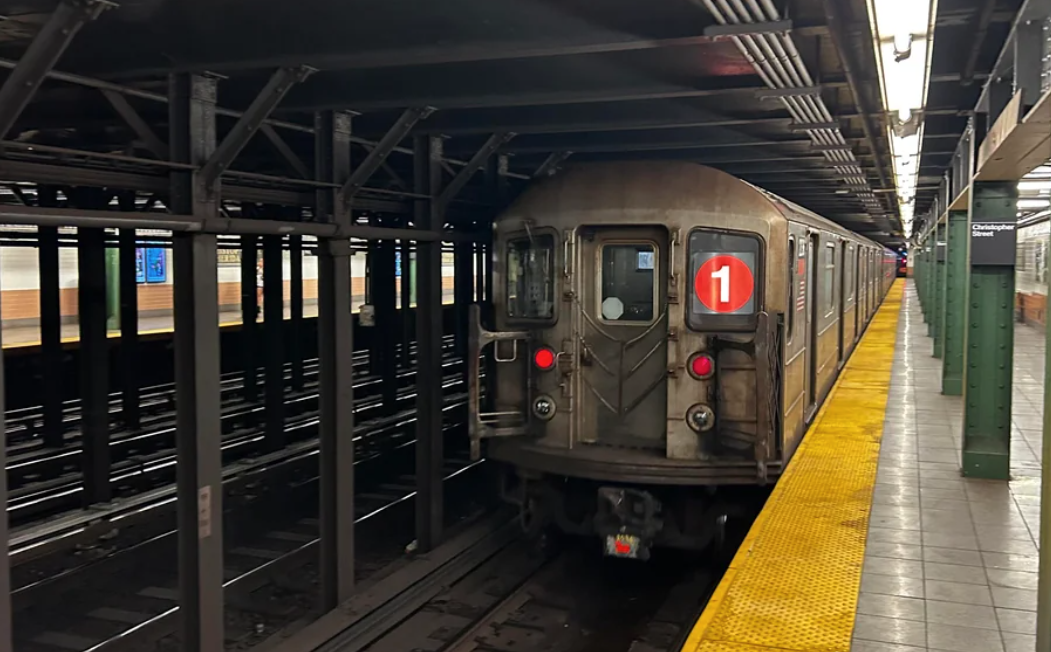train: (490, 161, 792, 481)
